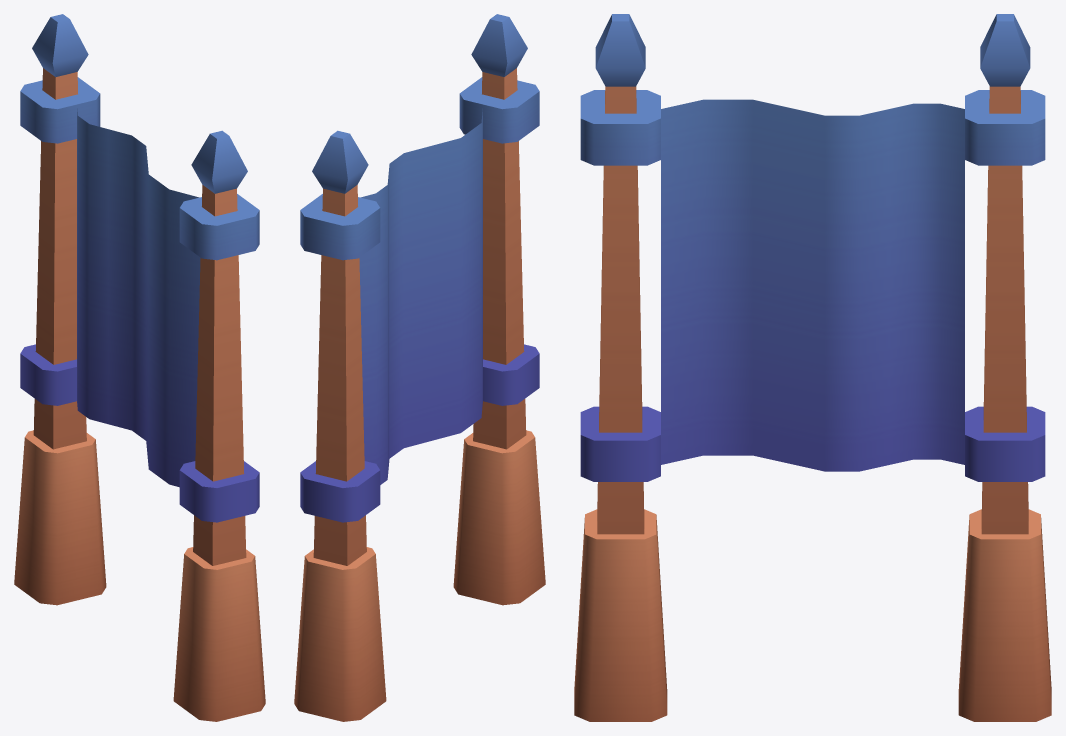
File: flag-wide.obj
3 renders of one model, left to right at view 1: azimuth 30°, elevation 25°; view 2: azimuth 150°, elevation 25°; view 3: azimuth 270°, elevation 25°, orthographic. The views are drawn at different scales.
Parts seen in each view (by area): view 1: flag-wide; view 2: flag-wide; view 3: flag-wide.
Boxes of the visible parts, x1=… form: flag-wide: x1=14, y1=14, x2=265, y2=721; flag-wide: x1=294, y1=14, x2=545, y2=721; flag-wide: x1=574, y1=14, x2=1051, y2=721.
Size of the model in its own units: 0.1064 by 0.8656 by 0.5469.
Materials: 1 (1 with a texture image).
